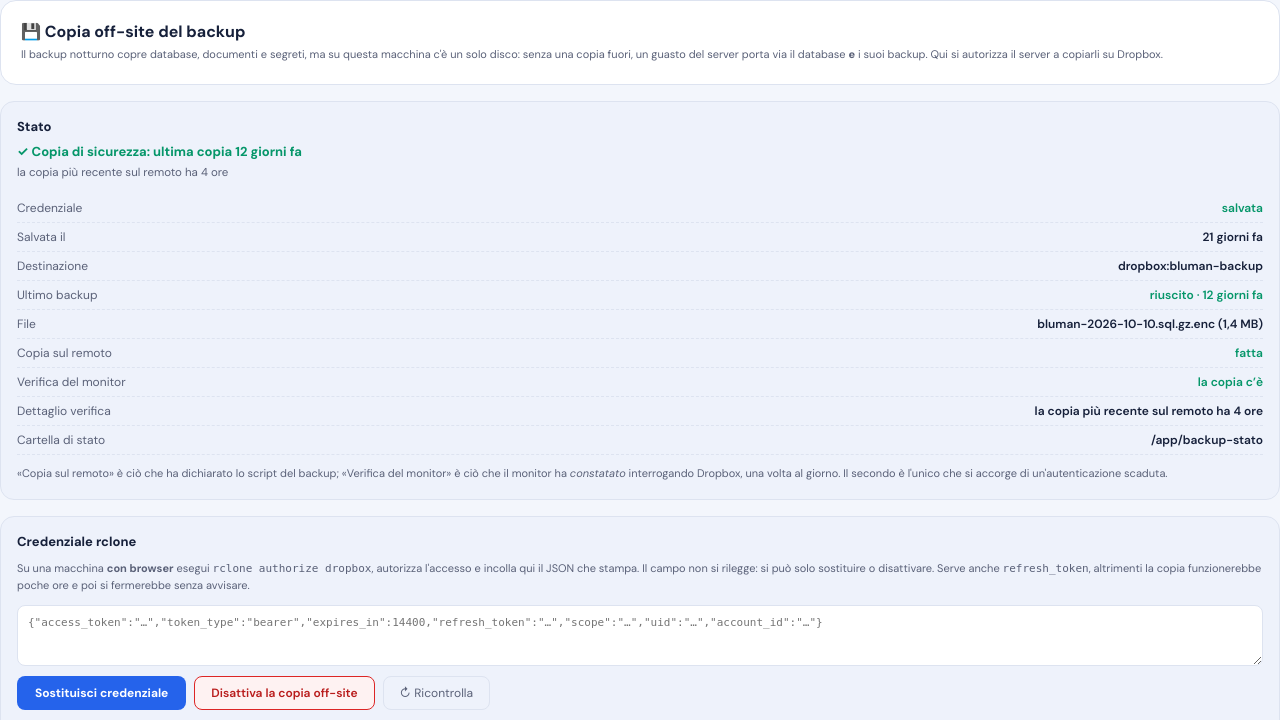
Test: PannelloBackupOffSite — il campo del token › con il campo vuoto non chiama l’API e lo dice
This screenshot has width=1280, height=720.
Click the button "Sostituisci credenziale" at [102, 693], box [17,676,186,710]
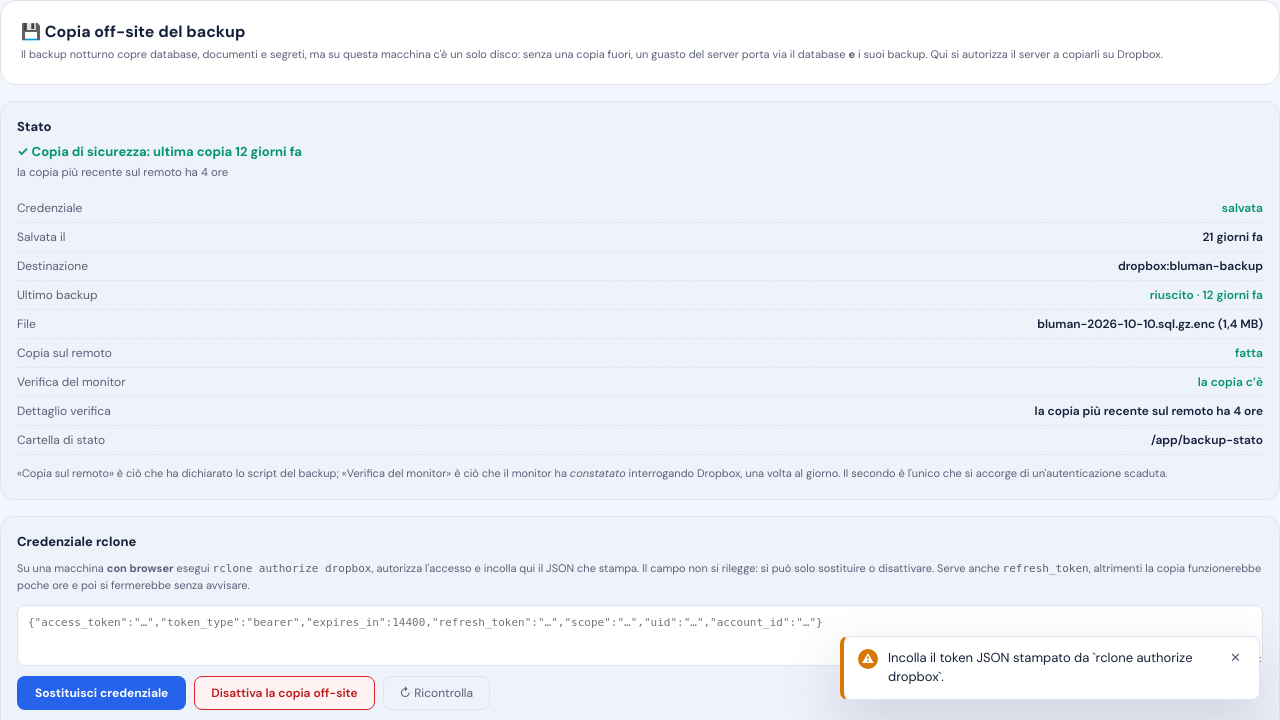
Expected: the text "Incolla il token JSON" is shown, [888,649,1193,685]
